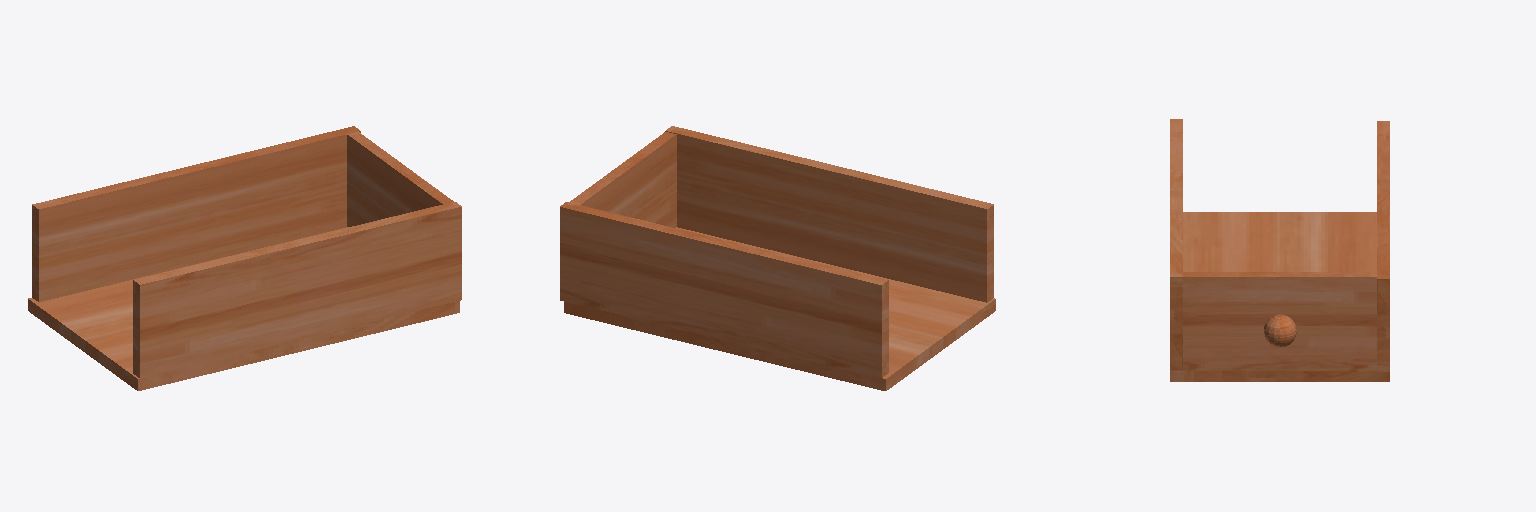
The picture shows the model from 3 angles: view 1: azimuth 30°, elevation 25°; view 2: azimuth 150°, elevation 25°; view 3: azimuth 270°, elevation 25°; orthographic projection.
Parts seen in each view (by area): view 1: Cube.071_Cube.002, Cube.073_Cube.001, Cube.070_Cube.003, Cube.074_Cube.000; view 2: Cube.073_Cube.001, Cube.071_Cube.002, Cube.070_Cube.003, Cube.074_Cube.000; view 3: Cube.074_Cube.000, Cube.070_Cube.003, Cube.071_Cube.002, Cube.073_Cube.001, Sphere.002_Sphere.000.
Boxes of the visible parts, x1=… form: Cube.071_Cube.002: x1=133, y1=202, x2=461, y2=378; Cube.073_Cube.001: x1=32, y1=126, x2=360, y2=301; Cube.070_Cube.003: x1=28, y1=227, x2=459, y2=390; Cube.074_Cube.000: x1=347, y1=132, x2=460, y2=300; Cube.073_Cube.001: x1=560, y1=202, x2=888, y2=378; Cube.071_Cube.002: x1=665, y1=126, x2=993, y2=302; Cube.070_Cube.003: x1=564, y1=227, x2=995, y2=390; Cube.074_Cube.000: x1=568, y1=132, x2=676, y2=227; Cube.074_Cube.000: x1=1171, y1=272, x2=1376, y2=370; Cube.070_Cube.003: x1=1170, y1=212, x2=1389, y2=381; Cube.071_Cube.002: x1=1170, y1=119, x2=1182, y2=369; Cube.073_Cube.001: x1=1377, y1=121, x2=1389, y2=371; Sphere.002_Sphere.000: x1=1264, y1=314, x2=1296, y2=347.
Size of the model in its own units: 4.61 by 1.35 by 2.55.
Materials: 1 (1 with a texture image).